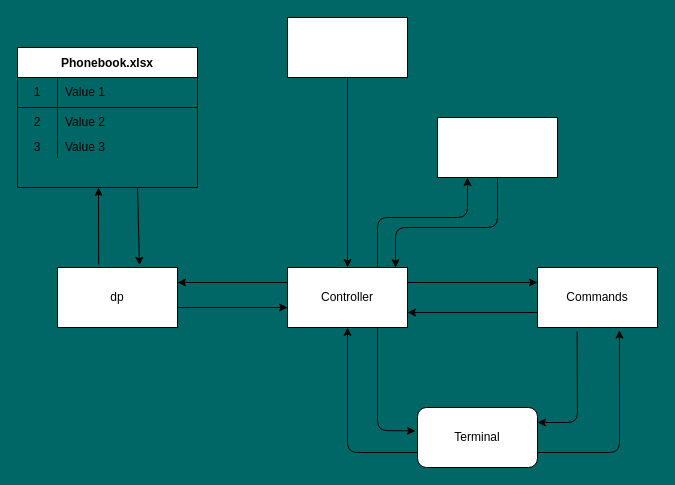
Some shapes in this 675 by 485 pixel diagram are drawn without their labels. The centre of each missing label's shape, as x and y in pixels:
"gui" belongs at [497,147].
"Main" belongs at [347,47].
